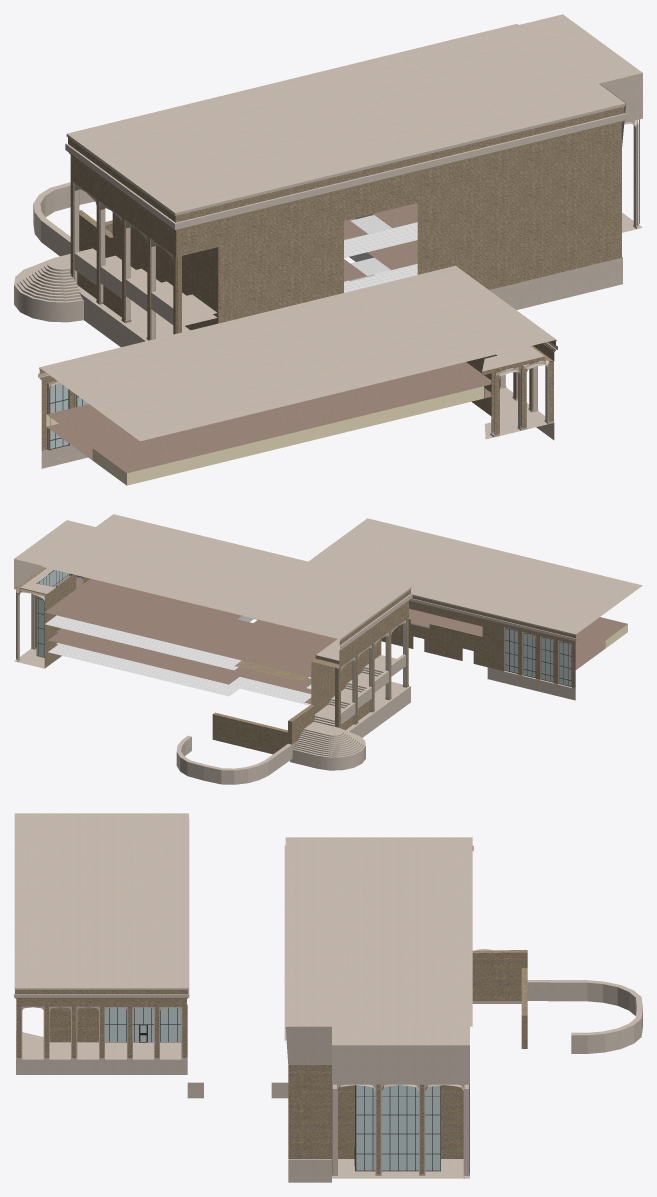
The model's file is Outside.fbx.
The picture shows the model from 3 angles, top to bottom: view 1: azimuth 30°, elevation 25°; view 2: azimuth 150°, elevation 25°; view 3: azimuth 270°, elevation 25°; orthographic projection. The views are drawn at different scales.
Visible parts, largest first — view 1: Classroom Outside, Plane.005, Plane.001, Classroom Stairs.004, 0_curve_.034, Classroom Stairs.002, o_3_floor_ground, 0_curve_.032, o_2_floor_ground, Classroom Pillars.007, 0_curve_.035, Classroom Pillars.001 (+1 smaller); view 2: Classroom Outside, Plane.005, o_3_floor_ground, o_2_floor_ground, Classroom Stairs.002, 0_curve_.034, Plane.001, o_atrium_glass_arches.006, Classroom Stairs.004, 0_curve_.032, Classroom Pillars.007, 0_curve_.025 (+2 smaller); view 3: Classroom Outside, Plane.005, Classroom Stairs.002, 0_curve_.025, 0_curve_.003, 0_curve_.035, Classroom Pillars.002, 0_curve_.031, Classroom Pillars.001.
Part boxes in pixels (x1,y1,x2,y2): Classroom Outside: (65,14,642,347); Plane.005: (38,265,557,468); Plane.001: (46,362,491,485); Classroom Stairs.004: (74,252,217,326); 0_curve_.034: (14,248,105,322); Classroom Stairs.002: (33,182,113,257); o_3_floor_ground: (344,203,417,257); 0_curve_.032: (70,180,181,340); o_2_floor_ground: (344,218,417,292); Classroom Pillars.007: (74,183,173,339); 0_curve_.035: (490,361,554,437); Classroom Pillars.001: (48,360,550,450); Classroom Outside: (14,514,412,737); Plane.005: (308,518,642,700); o_3_floor_ground: (45,575,337,688); o_2_floor_ground: (48,628,311,705); Classroom Stairs.002: (176,705,314,784); 0_curve_.034: (290,722,365,770); Plane.001: (409,608,627,669); o_atrium_glass_arches.006: (505,628,571,686); Classroom Stairs.004: (313,654,405,730); 0_curve_.032: (335,618,408,728); Classroom Pillars.007: (337,620,406,724); 0_curve_.025: (36,570,83,657); Classroom Outside: (284,837,473,1182); Plane.005: (14,813,288,1098); Classroom Stairs.002: (472,950,642,1053); 0_curve_.025: (355,1085,440,1171); 0_curve_.003: (105,1007,181,1042); 0_curve_.035: (16,1004,187,1059); Classroom Pillars.002: (332,1084,468,1174); 0_curve_.031: (332,1084,469,1178); Classroom Pillars.001: (21,1006,182,1057).
Size of the model in its own units: 7967 by 2012 by 7327.
